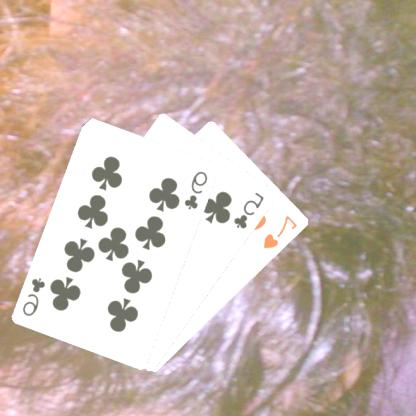5C: (233, 189, 268, 231)
7H: (262, 212, 301, 250)
9C: (22, 274, 50, 318), (184, 168, 212, 211)
